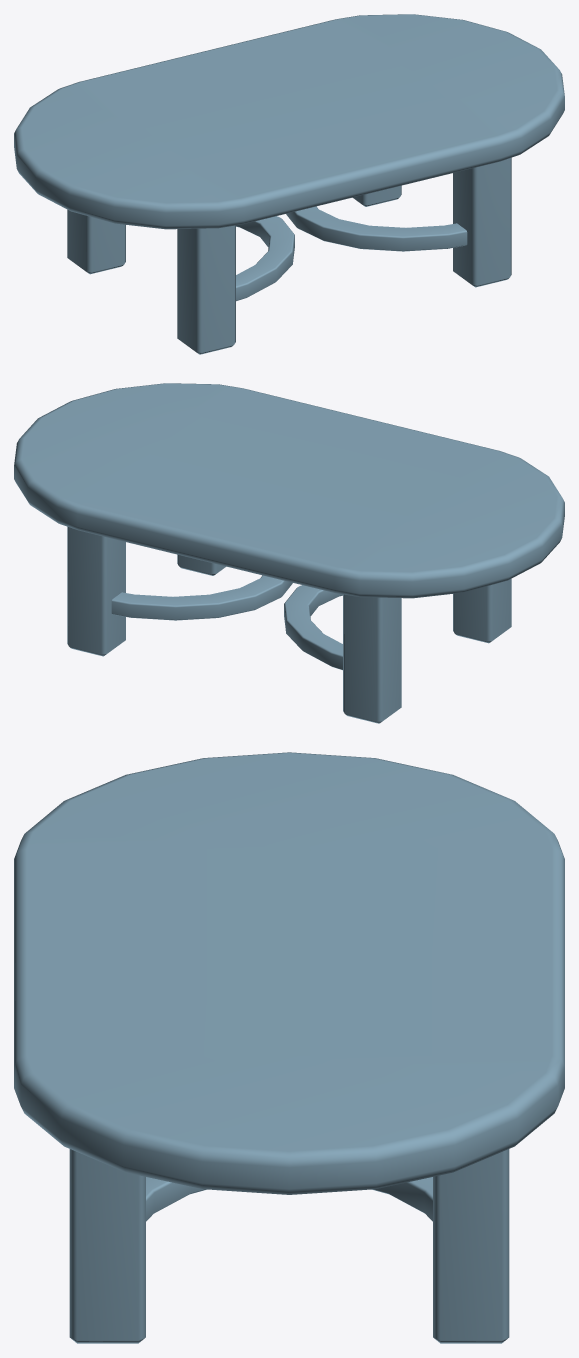
File: Table_9.glb
The picture shows the model from 3 angles, top to bottom: view 1: azimuth 30°, elevation 25°; view 2: azimuth 150°, elevation 25°; view 3: azimuth 270°, elevation 25°; orthographic projection. The views are drawn at different scales.
Parts seen in each view (by area): view 1: Table_9; view 2: Table_9; view 3: Table_9.
Part boxes in pixels (<box>): Table_9: <box>14,14,564,354</box>; Table_9: <box>14,383,564,723</box>; Table_9: <box>14,752,564,1343</box>.
Bounding box in the file's own units: 1.59 × 0.4835 × 0.9039.
Materials: 1 (1 with a texture image).
